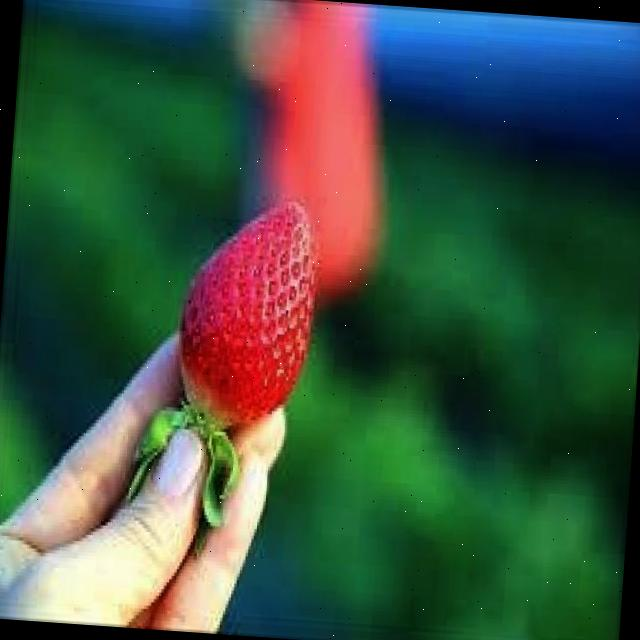strawberry: (172, 195, 322, 432)
